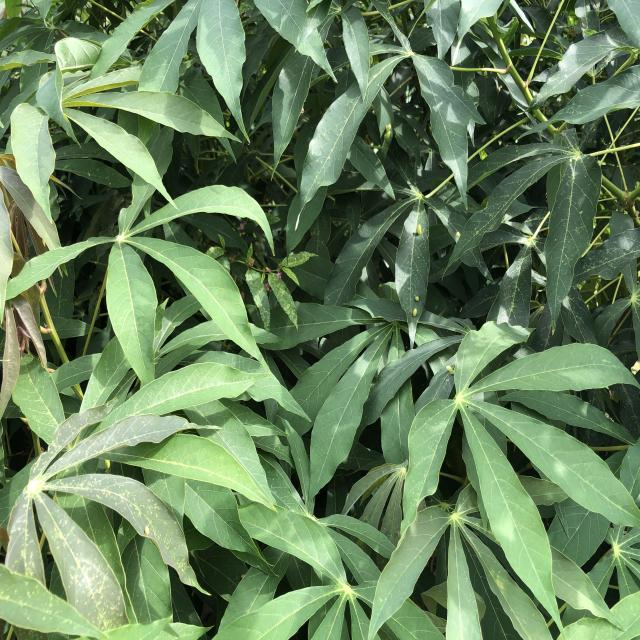Mosca: (408, 289, 424, 321), (411, 220, 427, 238), (442, 360, 456, 376)
